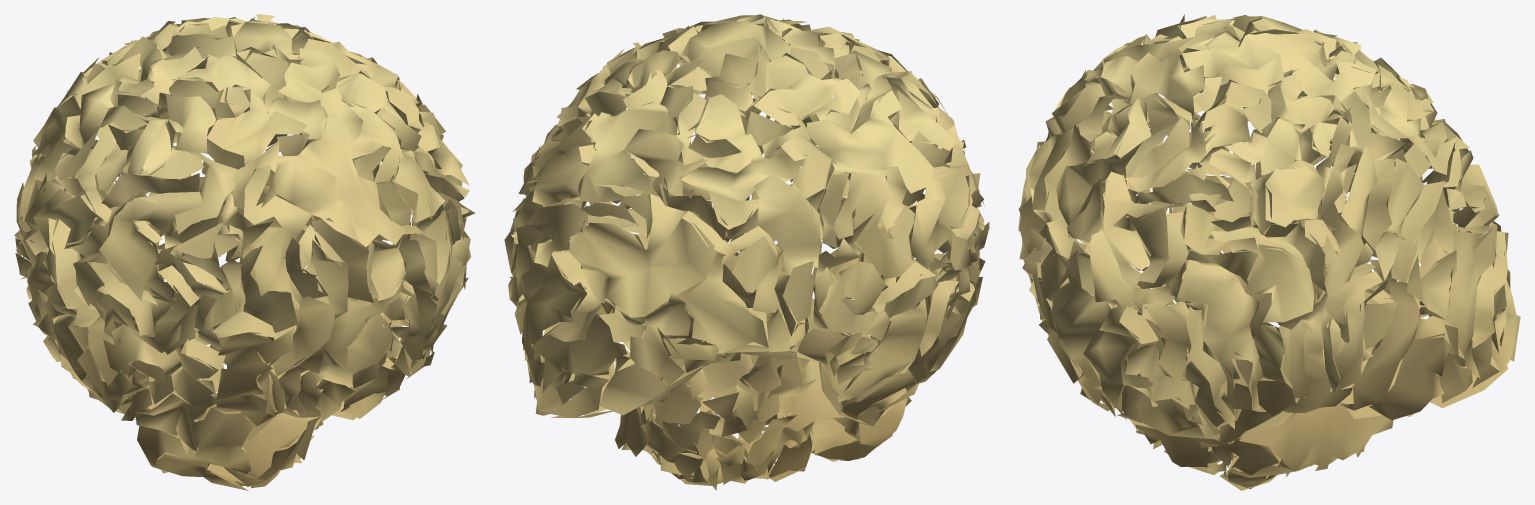
Rendered from brain_coral.glb.
The picture shows the model from 3 angles, left to right: view 1: azimuth 30°, elevation 25°; view 2: azimuth 150°, elevation 25°; view 3: azimuth 270°, elevation 25°; orthographic projection. The views are drawn at different scales.
Visible parts, largest first — view 1: brain_coral_near; view 2: brain_coral_near; view 3: brain_coral_near.
Boxes of the visible parts, x1,y1,x2,y2 form: brain_coral_near: (14, 14, 475, 490); brain_coral_near: (504, 14, 989, 490); brain_coral_near: (1018, 14, 1520, 490).
Bounding box in the file's own units: 0.3241 × 0.3277 × 0.3497.
1 material, 1 textured.
